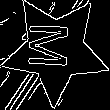M_E: (30, 26, 81, 74)
